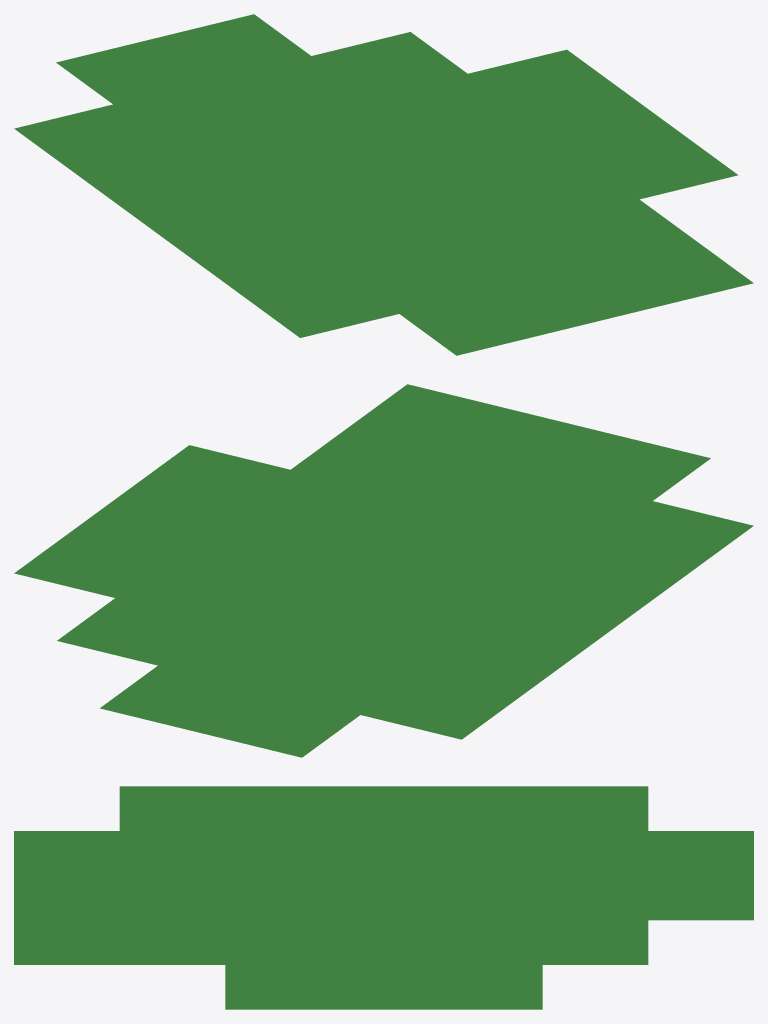
The model's file is Isl-islet5-TreesArea.fbx.
3 views of the same model, one above another, from view 1: azimuth 30°, elevation 25°; view 2: azimuth 150°, elevation 25°; view 3: azimuth 270°, elevation 25° (orthographic). The views are drawn at different scales.
Parts seen in each view (by area): view 1: Isl-islet5-TreesArea; view 2: Isl-islet5-TreesArea; view 3: Isl-islet5-TreesArea.
Boxes of the visible parts, x1,y1,x2,y2 form: Isl-islet5-TreesArea: (14, 14, 753, 355); Isl-islet5-TreesArea: (14, 384, 753, 757); Isl-islet5-TreesArea: (14, 786, 753, 1009).
Size of the model in its own units: 5 by 0 by 7.
